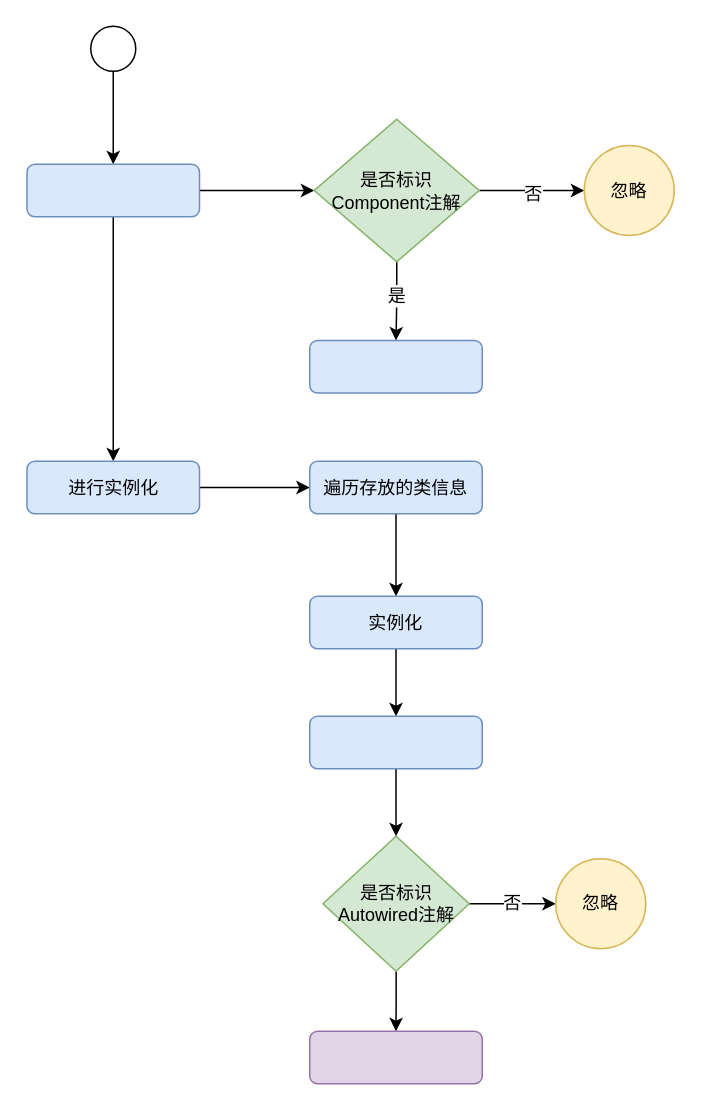
Image size: 701x1110. Some labels were removed from this diagram. Here are the shapes that lost their labels. From the top down, the centre of each, then its label:
At [113,190]: "扫描指定包下的类".
At [395,366]: "存放类信息".
At [395,742]: "遍历字段信息".
At [395,1057]: "进行依赖注入".
